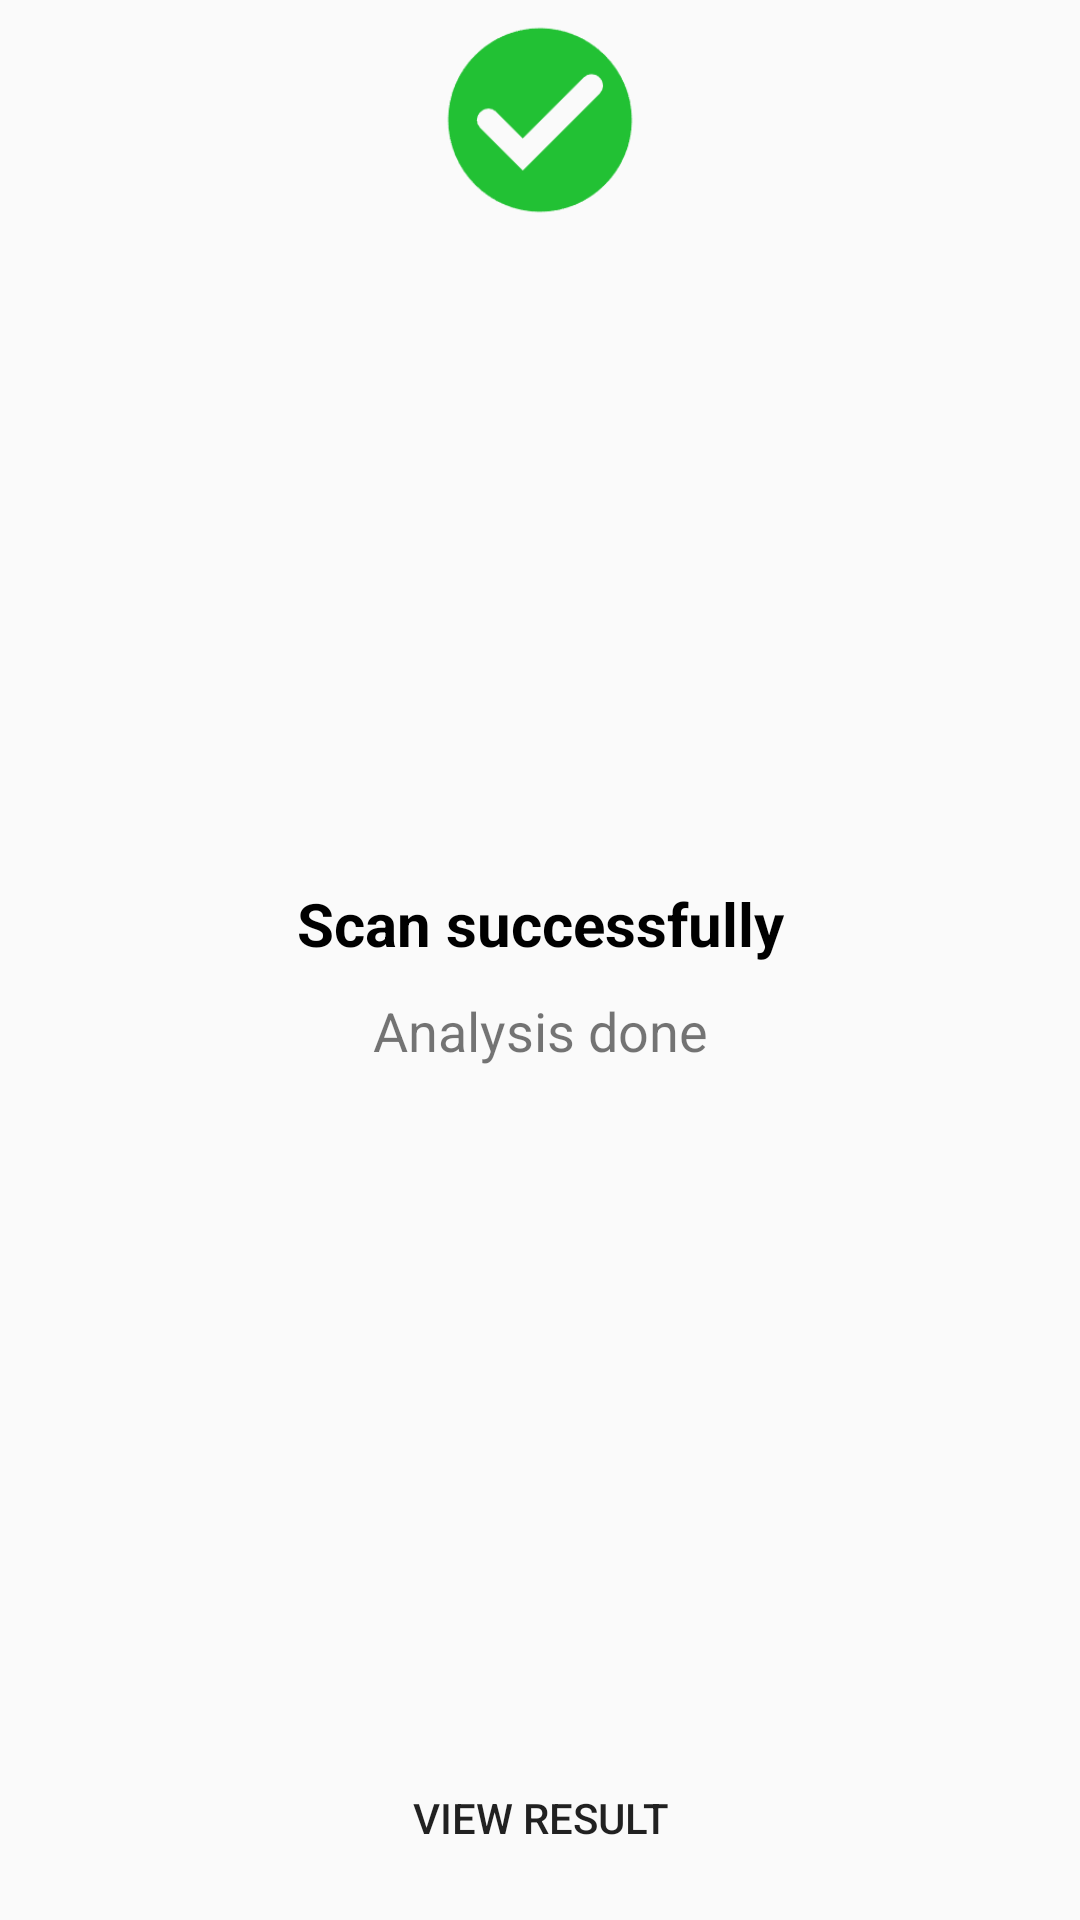

Icon bounding boxes for this 1080px x 1920px phone screenshot, format (x1, y1, x2, y2):
true: (447, 27, 633, 213)
